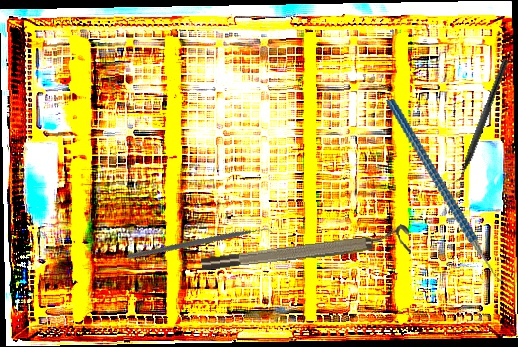Chopper: (385, 81, 517, 305), (126, 172, 277, 321), (446, 54, 510, 192)
Fixation Ring: (199, 223, 412, 275)
